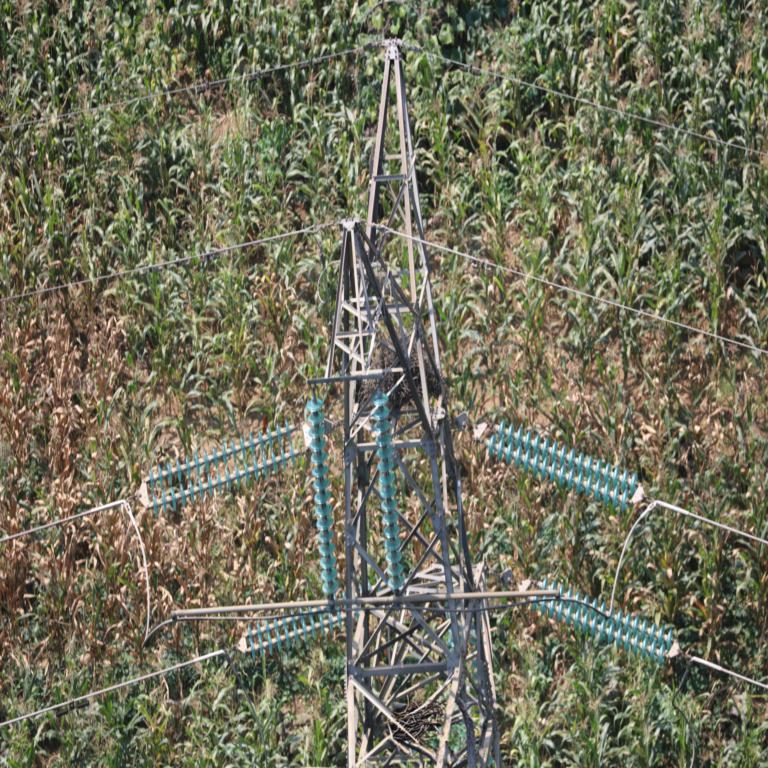nest: (367, 344, 440, 407), (383, 697, 444, 739)
